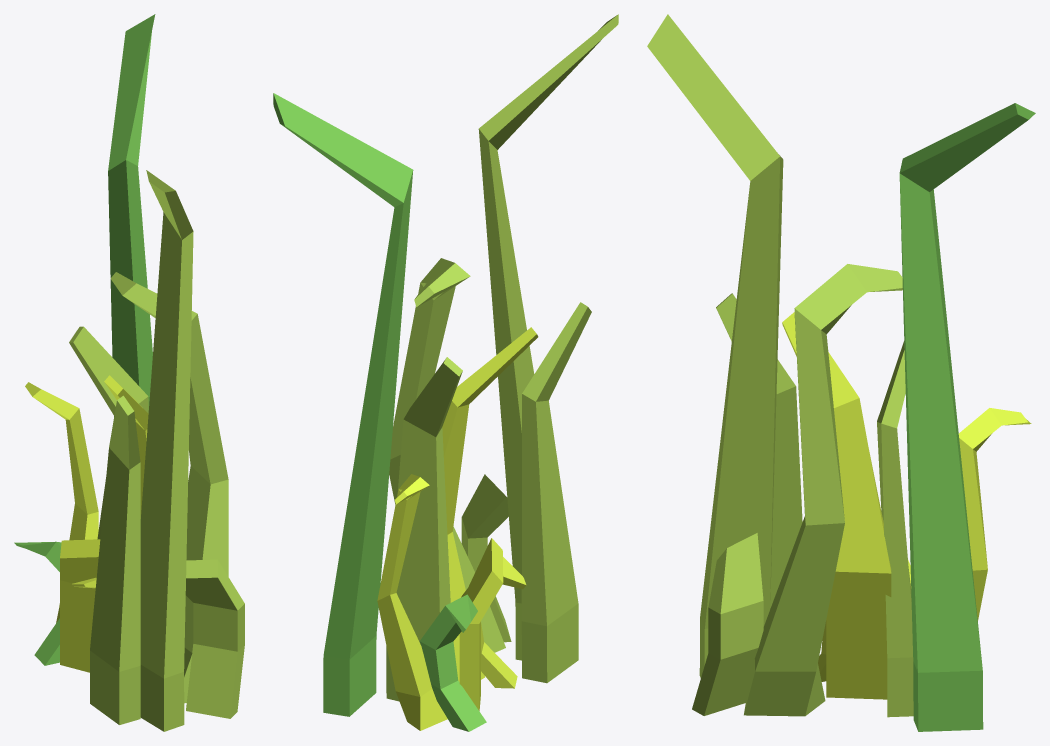
Rendered from Grama 1.fbx.
3 views of the same model, side by side, from view 1: azimuth 30°, elevation 25°; view 2: azimuth 150°, elevation 25°; view 3: azimuth 270°, elevation 25° (orthographic). The views are drawn at different scales.
Parts seen in each view (by area): view 1: Graminha 17, Graminha 19, Graminha 21, Graminha 24, Graminha 23, Graminha 15, Graminha 20, Graminha 14, Graminha 22, Graminha 18; view 2: Graminha 21, Graminha 19, Graminha 17, Graminha 14, Graminha 20, Graminha 24, Graminha 18, Graminha 22, Graminha 15, Graminha 23, Graminha 16; view 3: Graminha 21, Graminha 17, Graminha 24, Graminha 18, Graminha 23, Graminha 14, Graminha 19, Graminha 20.
Part boxes in pixels (x1,y1,x2,y2): Graminha 17: [140, 170, 193, 731]; Graminha 19: [90, 395, 140, 724]; Graminha 21: [108, 14, 155, 416]; Graminha 24: [110, 272, 228, 703]; Graminha 23: [185, 559, 244, 718]; Graminha 15: [60, 539, 100, 672]; Graminha 20: [25, 382, 98, 622]; Graminha 14: [69, 326, 148, 539]; Graminha 22: [14, 541, 61, 665]; Graminha 18: [104, 375, 148, 518]; Graminha 21: [273, 93, 413, 716]; Graminha 19: [521, 302, 591, 683]; Graminha 17: [478, 14, 618, 660]; Graminha 14: [386, 357, 462, 701]; Graminha 20: [377, 474, 447, 730]; Graminha 24: [389, 258, 505, 652]; Graminha 18: [442, 327, 538, 681]; Graminha 22: [419, 594, 486, 731]; Graminha 15: [459, 538, 503, 710]; Graminha 23: [461, 474, 511, 642]; Graminha 16: [461, 557, 526, 688]; Graminha 21: [899, 103, 1035, 731]; Graminha 17: [647, 14, 783, 678]; Graminha 24: [744, 264, 902, 716]; Graminha 18: [782, 312, 891, 699]; Graminha 23: [692, 533, 763, 715]; Graminha 14: [877, 341, 913, 717]; Graminha 19: [716, 293, 802, 608]; Graminha 20: [958, 408, 1031, 620].
Bounding box in the file's own units: 507 × 1702 × 928.
